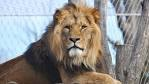lion: (3, 5, 124, 84)
